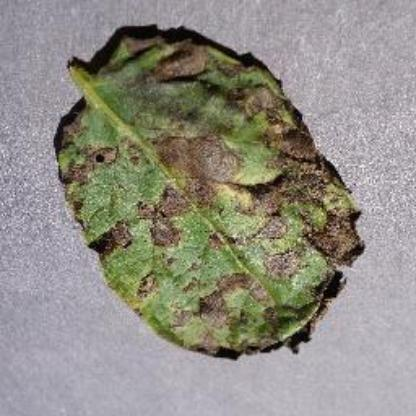Early-Blight: (47, 11, 371, 366)
